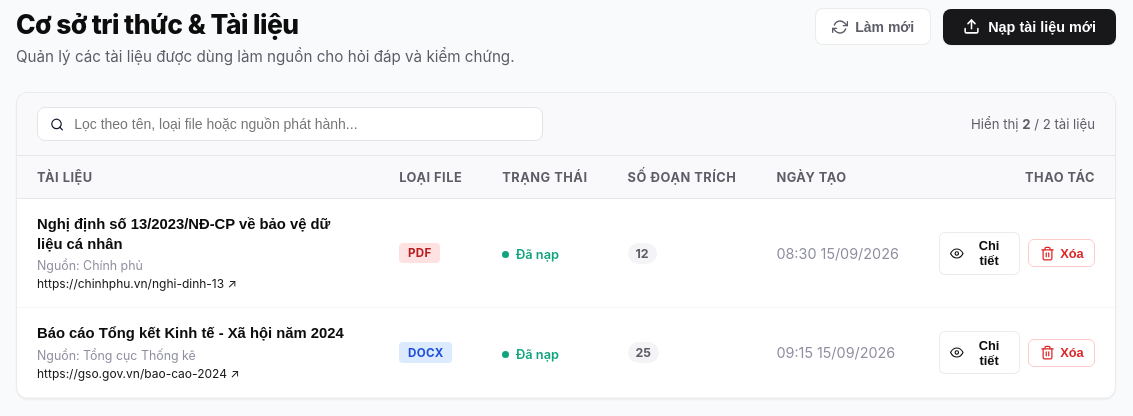
Test: Documents & Knowledge Base Feature (FE-04.5A) › 1. Initial Load & Document List › filters documents locally when searching in the table search input
Expected: the table with test id "documents-table" is shown, [17,156,1115,398]
Step 1. Type "Nghị định" into the field with test id "document-search-input" → point(301, 124), box [72,115,530,133]
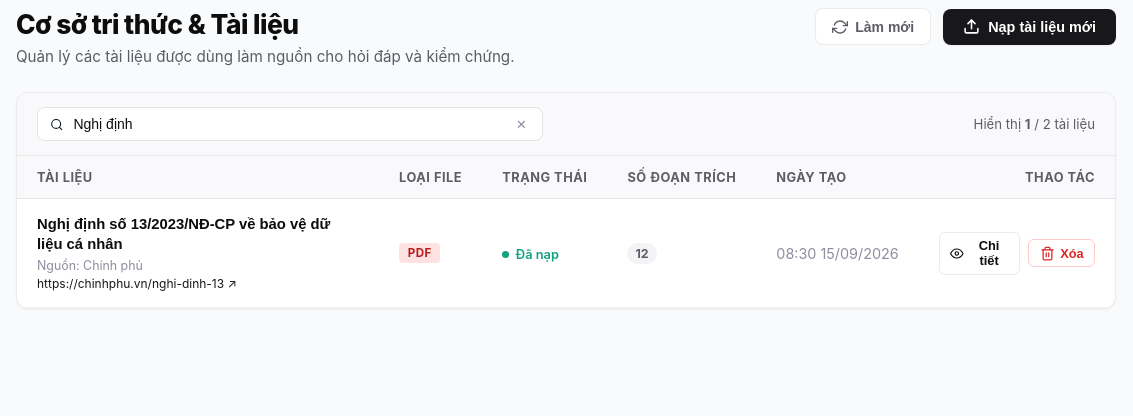
Expected: the row with test id "doc-row-doc-uuid-001" is shown, [17,199,1115,308]
Expected: the row with test id "doc-row-doc-uuid-002" is gone
# Clear search
Step 2. Clear the field with test id "document-search-input" → point(288, 124), box [71,115,505,133]
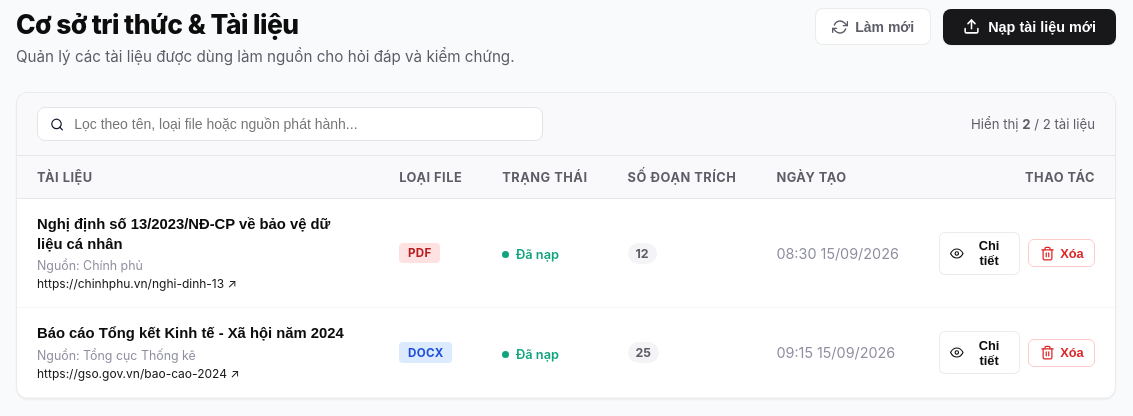
Expected: the row with test id "doc-row-doc-uuid-001" is shown, [17,199,1115,308]
Expected: the row with test id "doc-row-doc-uuid-002" is shown, [17,308,1115,397]
